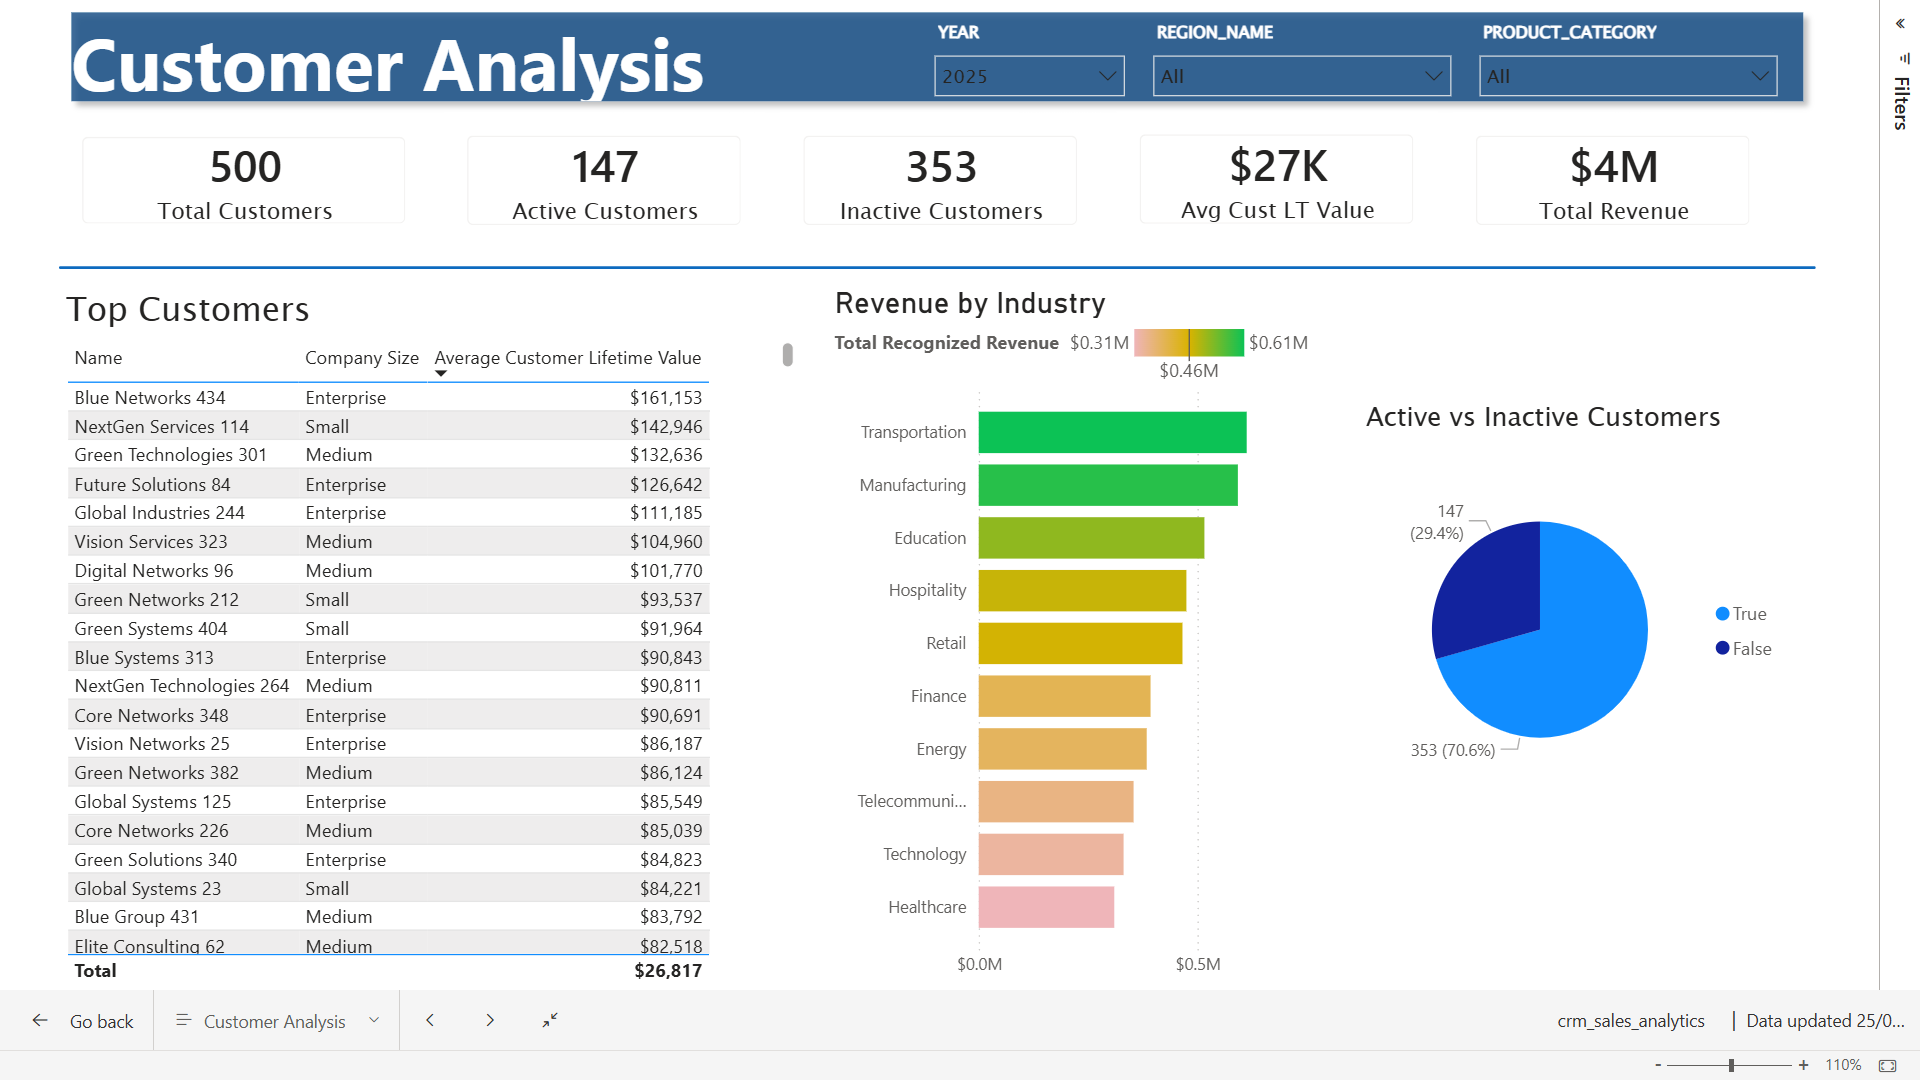

Layout of this report page (visuals, bound fields, positions):
{"tool":"powerbi","page":{"name":"Customer Analysis","canvas":[1280,720],"ordinal":2},"visuals":[{"type":"shape","box":[0,0,1277.5,82.6],"z":0},{"type":"cardVisual","fields":{"Data":["_Measures.Total Customers"]},"box":[0,82.4,269.8,97.7],"z":0,"group":"g1"},{"type":"cardVisual","fields":{"Data":["_Measures.Active Customers"]},"box":[280.4,81.4,233.9,99.5],"z":1000,"group":"g1"},{"type":"shape","box":[0,155.5,1277.5,78.4],"z":1000},{"type":"slicer","fields":{"Values":["DIM_DATES.YEAR"]},"box":[626.7,10.3,158.9,61.5],"z":2000},{"type":"cardVisual","fields":{"Data":["_Measures.Inactive Customers"]},"box":[524.9,82.1,233.9,99.5],"z":2000,"group":"g1"},{"type":"slicer","fields":{"Values":["DIM_REGIONS.REGION_NAME"]},"box":[785.6,10.3,237.1,61.5],"z":3000},{"type":"cardVisual","fields":{"Data":["_Measures.Average Customer Lifetime Value"]},"box":[769.4,80.9,233.9,99.5],"z":3000,"group":"g1"},{"type":"slicer","fields":{"Values":["DIM_PRODUCTS.PRODUCT_CATEGORY"]},"box":[1022.7,10.3,237.1,61.5],"z":4000},{"type":"cardVisual","fields":{"Data":["_Measures.Total Recognized Revenue"]},"box":[1013.8,81.7,233.9,99.5],"z":4000,"group":"g1"},{"type":"group","id":"g1","title":"Groupe 1","box":[0,80.9,1247.7,100.8],"z":5000},{"type":"tableEx","title":"Top Customers","fields":{"Values":["DIM_CUSTOMERS.CUSTOMER_NAME","DIM_CUSTOMERS.COMPANY_SIZE","_Measures.Average Customer Lifetime Value"]},"box":[0,207.5,539.8,512.7],"z":6000},{"type":"clusteredBarChart","title":"Revenue by Industry","fields":{"Y":["_Measures.Total Recognized Revenue"],"Category":["DIM_CUSTOMERS.INDUSTRY"]},"box":[558.8,207.5,386.5,512.7],"z":6001},{"type":"pieChart","title":"Active vs Inactive Customers","fields":{"Category":["DIM_CUSTOMERS.IS_INACTIVE_CUSTOMER"],"Y":["_Measures.Total Customers"]},"box":[945.3,288.9,314.6,309.2],"z":6002}]}

Visuals, with their boxes on the page's 1280x720 design canvas (x1, y1, x2, y2). These are canvas units, not pixel positions in the 1920x1080 screenshot, which may show the page scaled, cropped or inside an application window:
shape: left=0, top=0, right=1278, bottom=83
cardVisual - _Measures.Total Customers: left=0, top=82, right=270, bottom=180
cardVisual - _Measures.Active Customers: left=280, top=81, right=514, bottom=181
shape: left=0, top=156, right=1278, bottom=234
slicer - DIM_DATES.YEAR: left=627, top=10, right=786, bottom=72
cardVisual - _Measures.Inactive Customers: left=525, top=82, right=759, bottom=182
slicer - DIM_REGIONS.REGION_NAME: left=786, top=10, right=1023, bottom=72
cardVisual - _Measures.Average Customer Lifetime Value: left=769, top=81, right=1003, bottom=180
slicer - DIM_PRODUCTS.PRODUCT_CATEGORY: left=1023, top=10, right=1260, bottom=72
cardVisual - _Measures.Total Recognized Revenue: left=1014, top=82, right=1248, bottom=181
"Groupe 1" group: left=0, top=81, right=1248, bottom=182
"Top Customers" tableEx: left=0, top=208, right=540, bottom=720
"Revenue by Industry" clusteredBarChart: left=559, top=208, right=945, bottom=720
"Active vs Inactive Customers" pieChart: left=945, top=289, right=1260, bottom=598
